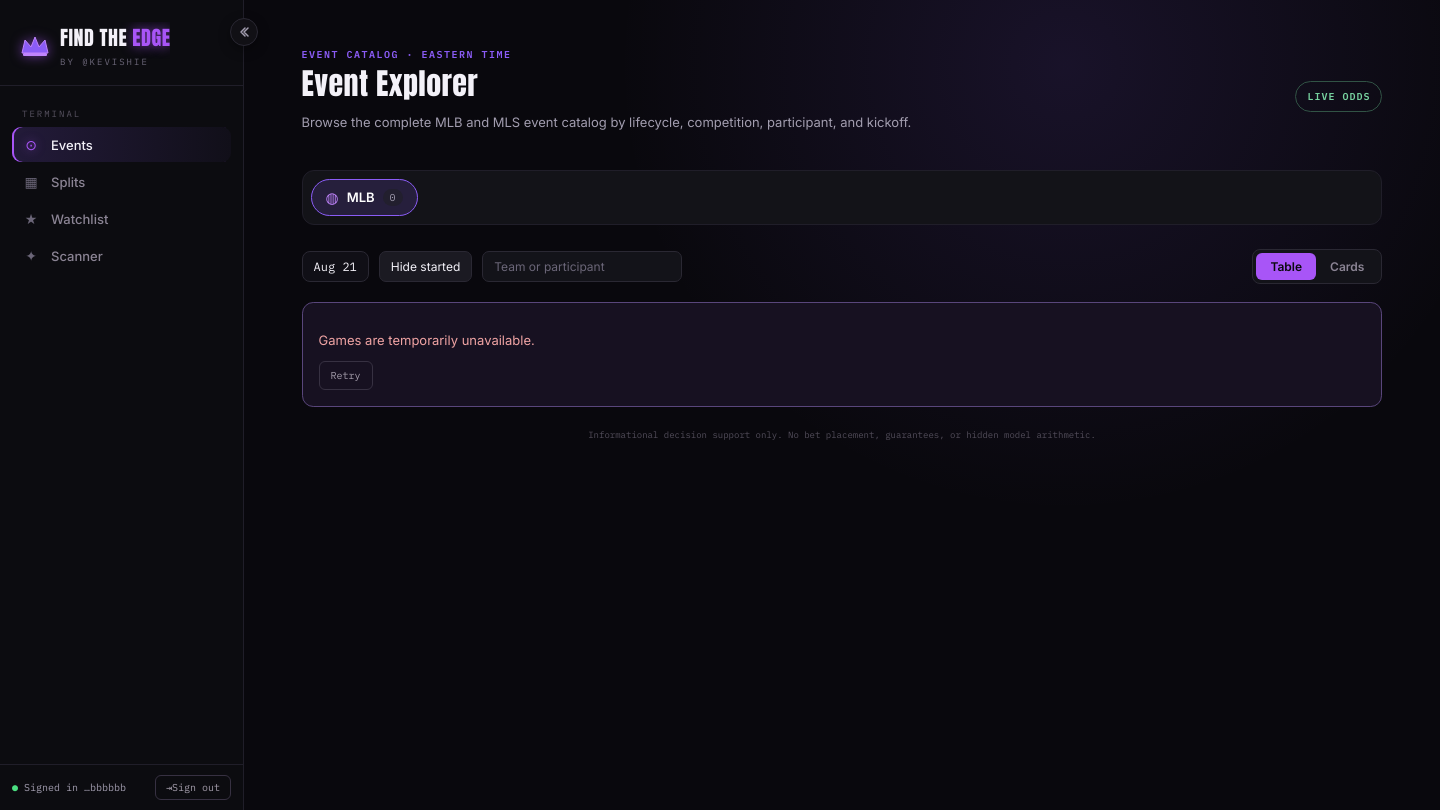
Test: Shell navigation › still collapses when the saved preference cannot be written
Click the button named "Collapse navigation". click: (244, 32)
box: [230,18,258,46]
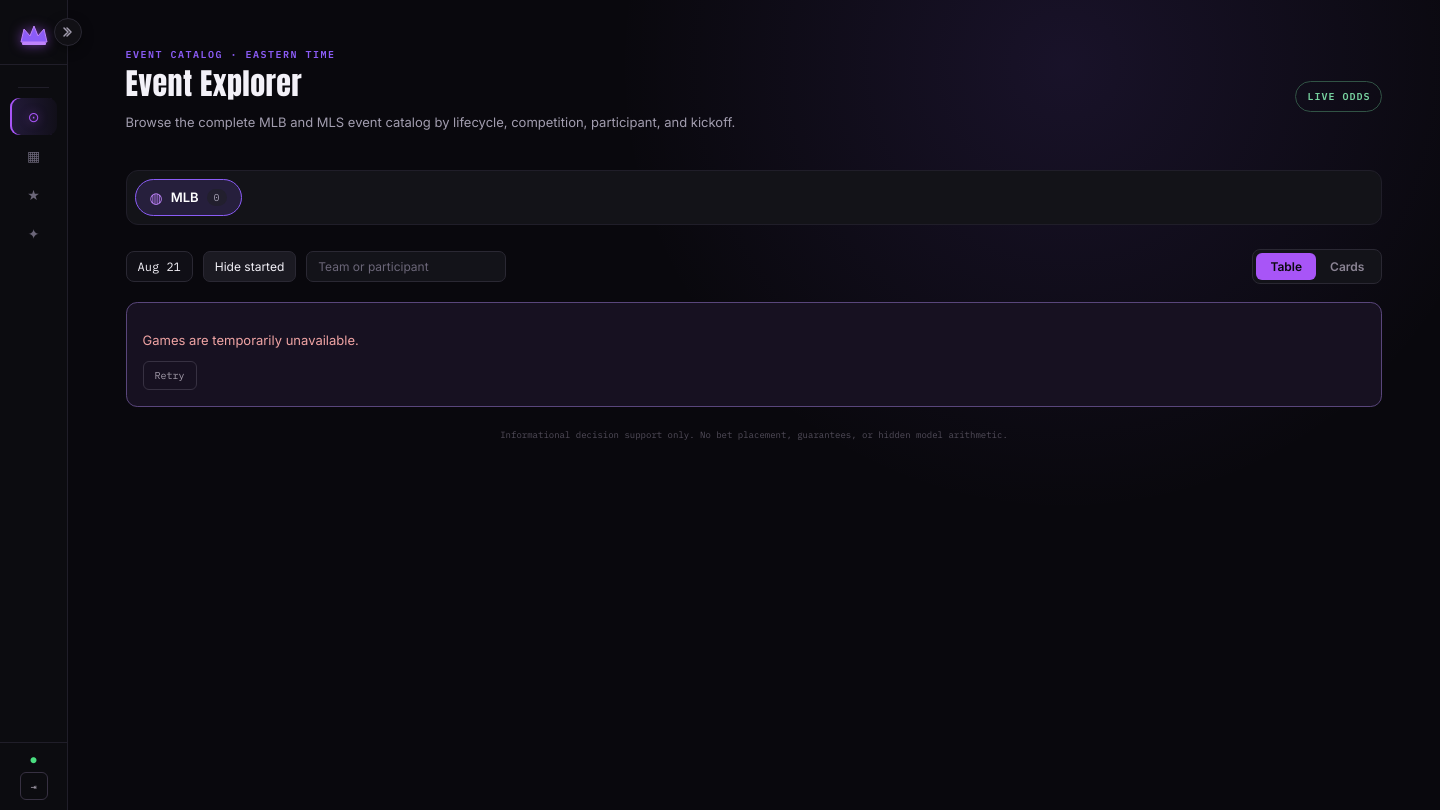
Expected: the button named "Expand navigation" is shown, [54,18,82,46]
